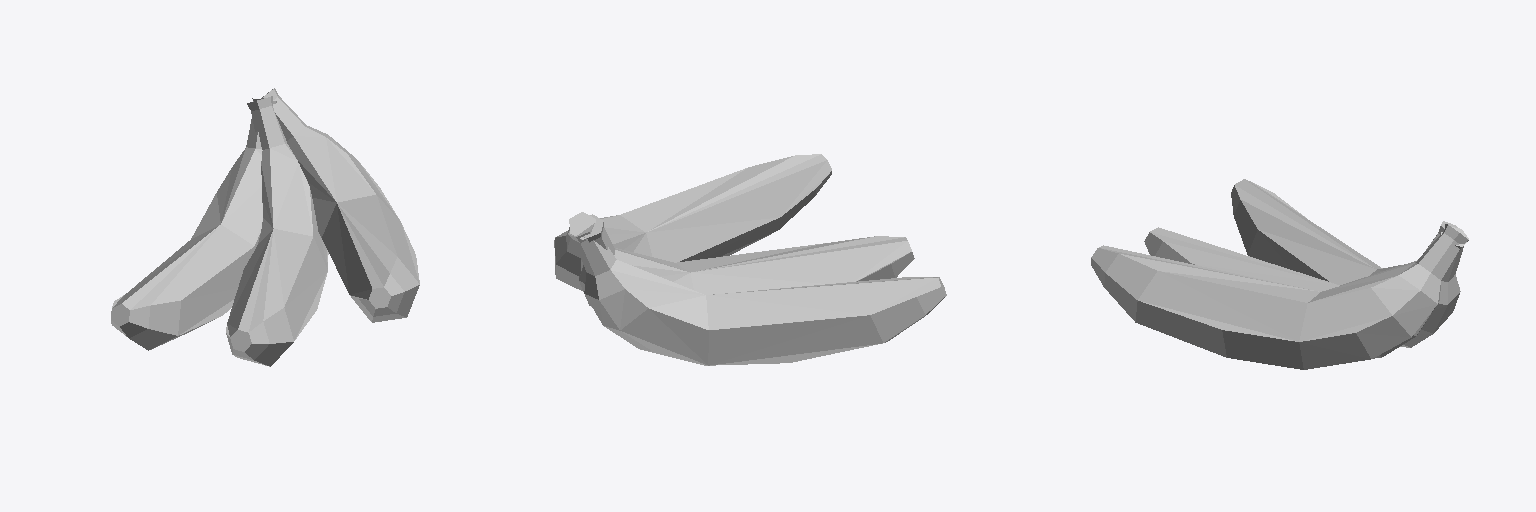
File: banana1.obj
3 views of the same model, side by side, from view 1: azimuth 30°, elevation 25°; view 2: azimuth 150°, elevation 25°; view 3: azimuth 270°, elevation 25° (orthographic).
Visible parts, largest first — view 1: Icosphere.003, Icosphere.004, Icosphere.002; view 2: Icosphere.002, Icosphere.004, Icosphere.003; view 3: Icosphere.004, Icosphere.002, Icosphere.003.
Boxes of the visible parts, x1=… form: Icosphere.003: x1=226, y1=96, x2=328, y2=366; Icosphere.004: x1=260, y1=88, x2=419, y2=322; Icosphere.002: x1=111, y1=98, x2=276, y2=350; Icosphere.002: x1=568, y1=223, x2=946, y2=365; Icosphere.004: x1=554, y1=154, x2=831, y2=290; Icosphere.003: x1=579, y1=214, x2=914, y2=306; Icosphere.004: x1=1091, y1=224, x2=1467, y2=369; Icosphere.002: x1=1231, y1=179, x2=1468, y2=347; Icosphere.003: x1=1144, y1=221, x2=1457, y2=358.
Size of the model in its own units: 0.6664 by 0.3193 by 0.6765.